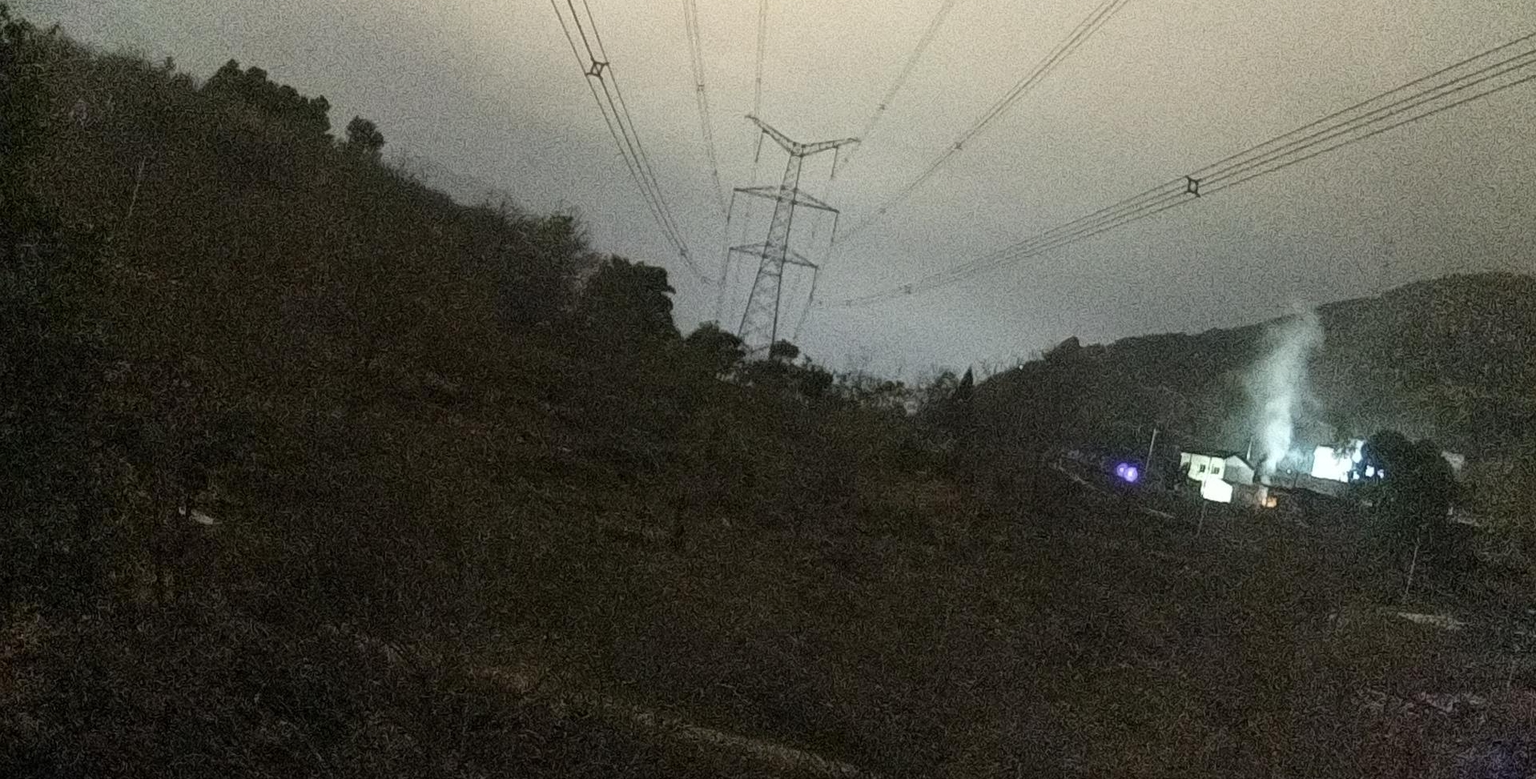烟雾: (1213, 290, 1338, 515)
